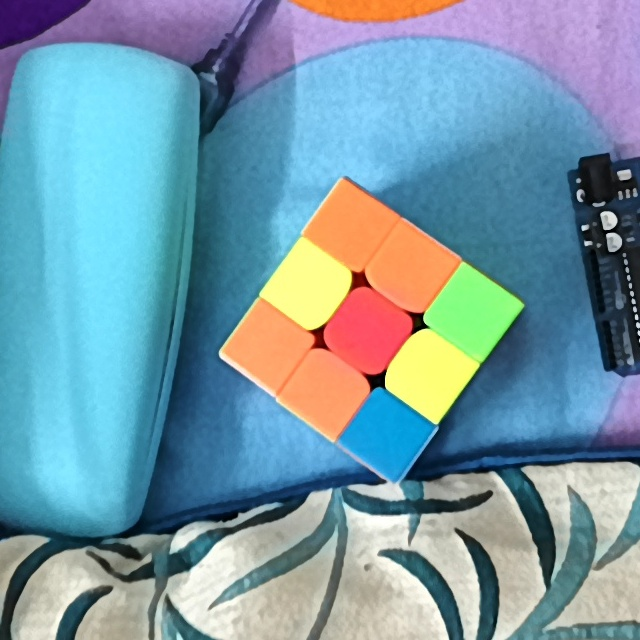tile: (445, 286, 498, 339), (387, 241, 435, 295), (360, 410, 411, 460), (243, 320, 291, 372), (342, 307, 393, 355), (405, 347, 454, 396), (321, 206, 377, 248), (301, 367, 349, 415), (286, 263, 332, 310)
